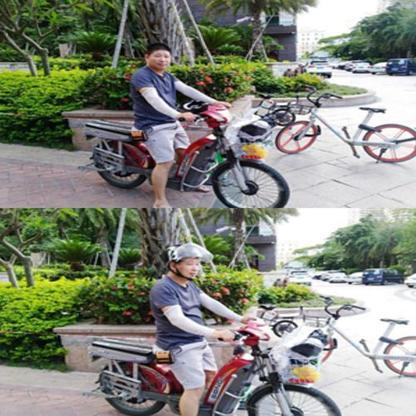target: (86, 241, 342, 414), (82, 42, 290, 206)
